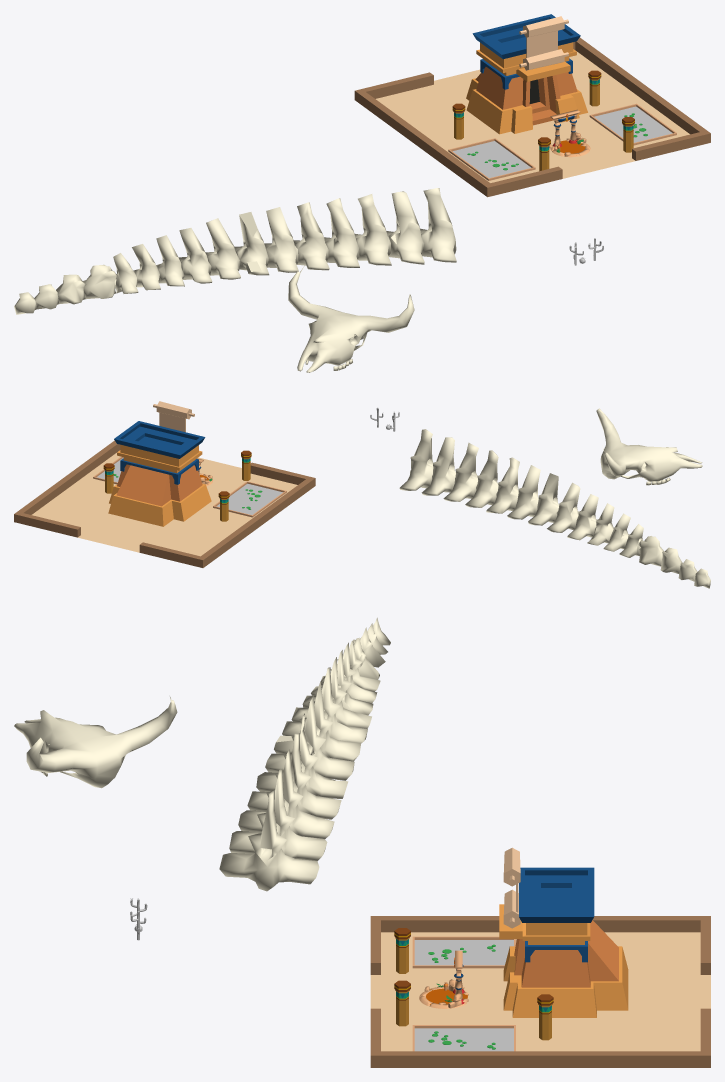
File: trangtri map2.fbx
The picture shows the model from 3 angles, top to bottom: view 1: azimuth 30°, elevation 25°; view 2: azimuth 150°, elevation 25°; view 3: azimuth 270°, elevation 25°; orthographic projection. The views are drawn at different scales.
Visible parts, largest first — view 1: Plane.002, bone, Nha_Sach_NhaChinh_Sach_SG_0, bone2, _gltfNode_0; view 2: Plane.002, bone, Nha_Sach_NhaChinh_Sach_SG_0, bone2; view 3: Plane.002, bone, Nha_Sach_NhaChinh_Sach_SG_0, bone2, _gltfNode_0.
Part boxes in pixels (x1,y1,x2,y2): Plane.002: (354, 37, 710, 197); bone: (14, 188, 456, 314); Nha_Sach_NhaChinh_Sach_SG_0: (466, 14, 587, 134); bone2: (288, 265, 414, 372); _gltfNode_0: (549, 109, 590, 157); Plane.002: (14, 440, 315, 567); bone: (399, 429, 710, 588); Nha_Sach_NhaChinh_Sach_SG_0: (108, 401, 211, 526); bone2: (596, 408, 702, 485); Plane.002: (370, 916, 710, 1067); bone: (219, 617, 390, 891); Nha_Sach_NhaChinh_Sach_SG_0: (499, 847, 628, 1017); bone2: (14, 697, 177, 788); _gltfNode_0: (419, 950, 468, 1008).
Size of what is drawn, in the model's own units: 145 by 23.93 by 98.87.
